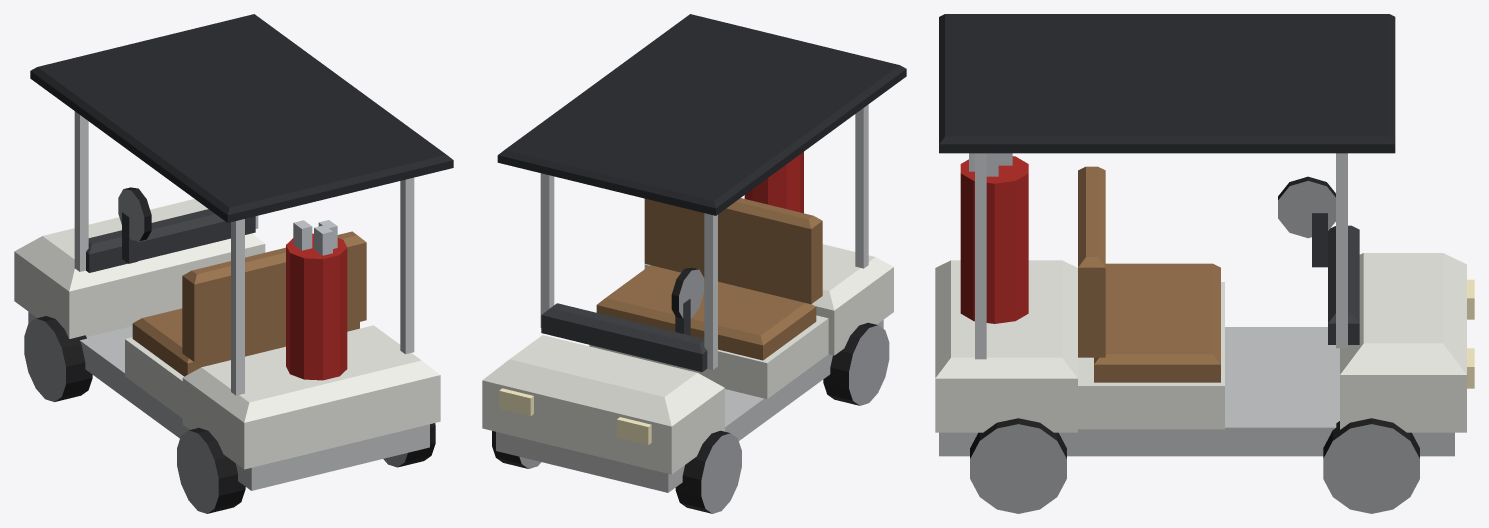
Rendered from cart_black.glb.
The picture shows the model from 3 angles, left to right: view 1: azimuth 30°, elevation 25°; view 2: azimuth 150°, elevation 25°; view 3: azimuth 270°, elevation 25°; orthographic projection. The views are drawn at different scales.
Parts seen in each view (by area): view 1: cart_body; view 2: cart_body; view 3: cart_body.
Part boxes in pixels (bbox=[...]): cart_body: bbox=[14, 14, 453, 513]; cart_body: bbox=[482, 14, 906, 513]; cart_body: bbox=[935, 14, 1474, 513].
Size of the model in its own units: 1.52 by 2.1 by 2.72.
1 material, 1 textured.
